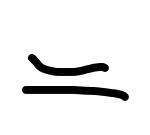eqv: (22, 53, 129, 102)
